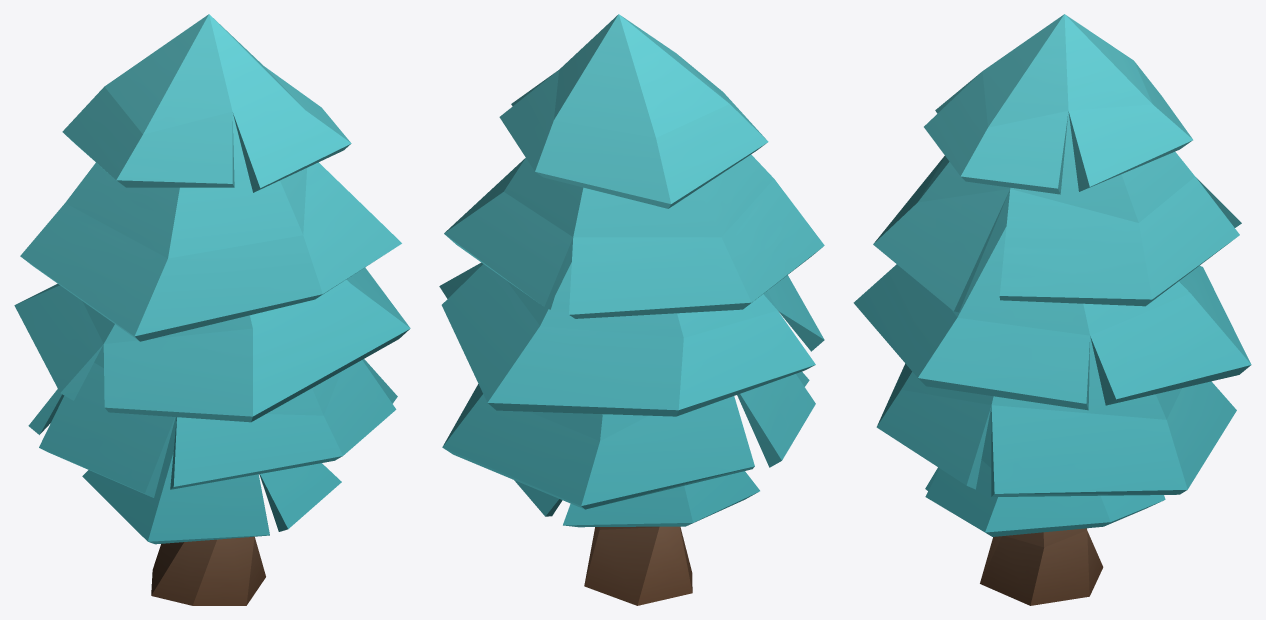
File: Tree_Spruce_Blue_01.fbx
3 renders of one model, left to right at view 1: azimuth 30°, elevation 25°; view 2: azimuth 150°, elevation 25°; view 3: azimuth 270°, elevation 25°, orthographic. The views are drawn at different scales.
Visible parts, largest first — view 1: Tree_Spruce_Blue; view 2: Tree_Spruce_Blue; view 3: Tree_Spruce_Blue.
Boxes of the visible parts, x1,y1,x2,y2 form: Tree_Spruce_Blue: (14,14,410,605); Tree_Spruce_Blue: (439,14,824,605); Tree_Spruce_Blue: (853,14,1251,605).
Size of the model in its own units: 5.3 by 8.4 by 5.3.
